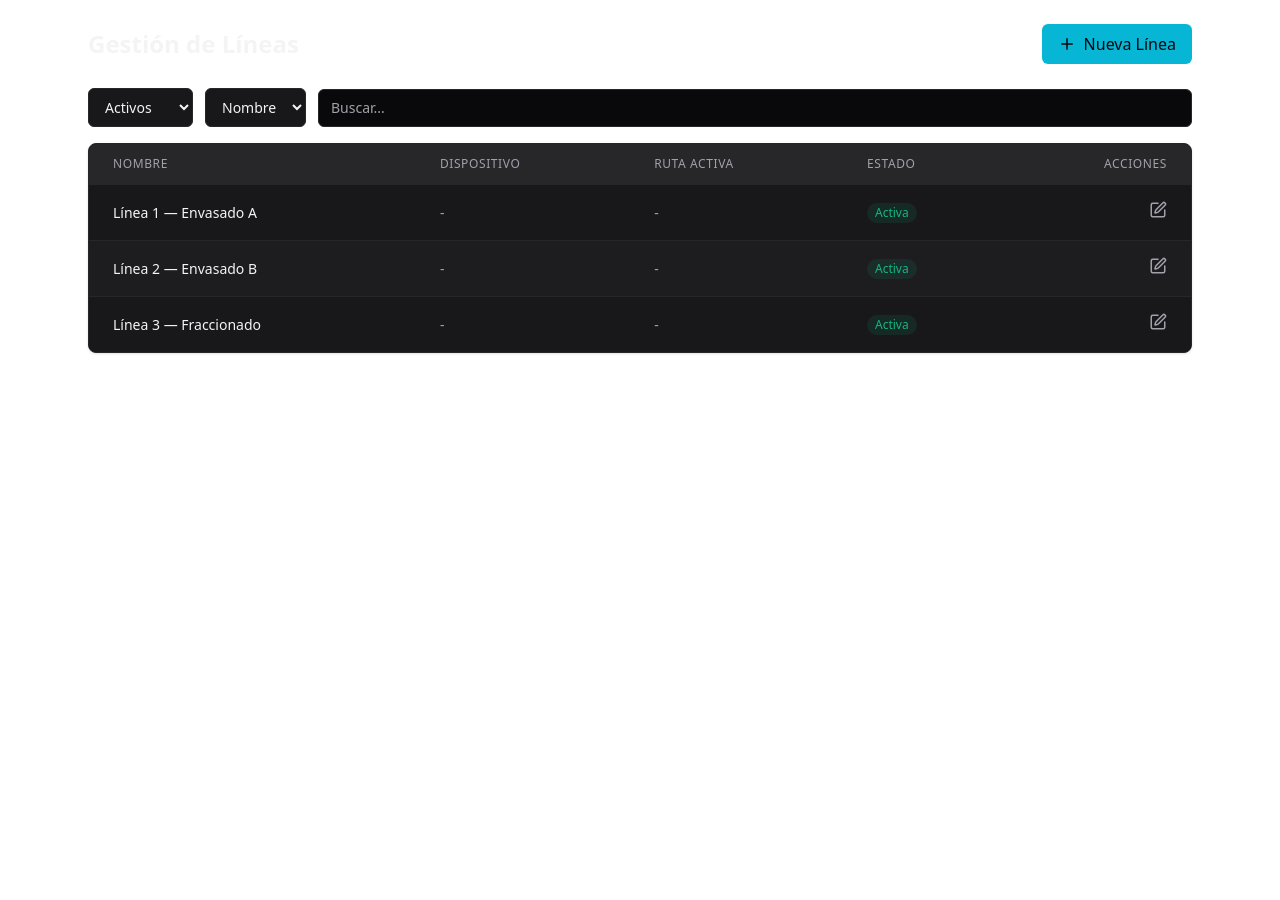
Test: LineasPage › "Activar Línea" button is visible when editing an inactive linea
Expected: the text "Línea 1 — Envasado A" is shown, [89,184,416,240]
Select "Inactivos" in the 1st dropdown at {"x": 140, "y": 108}, box [88,88,193,127]
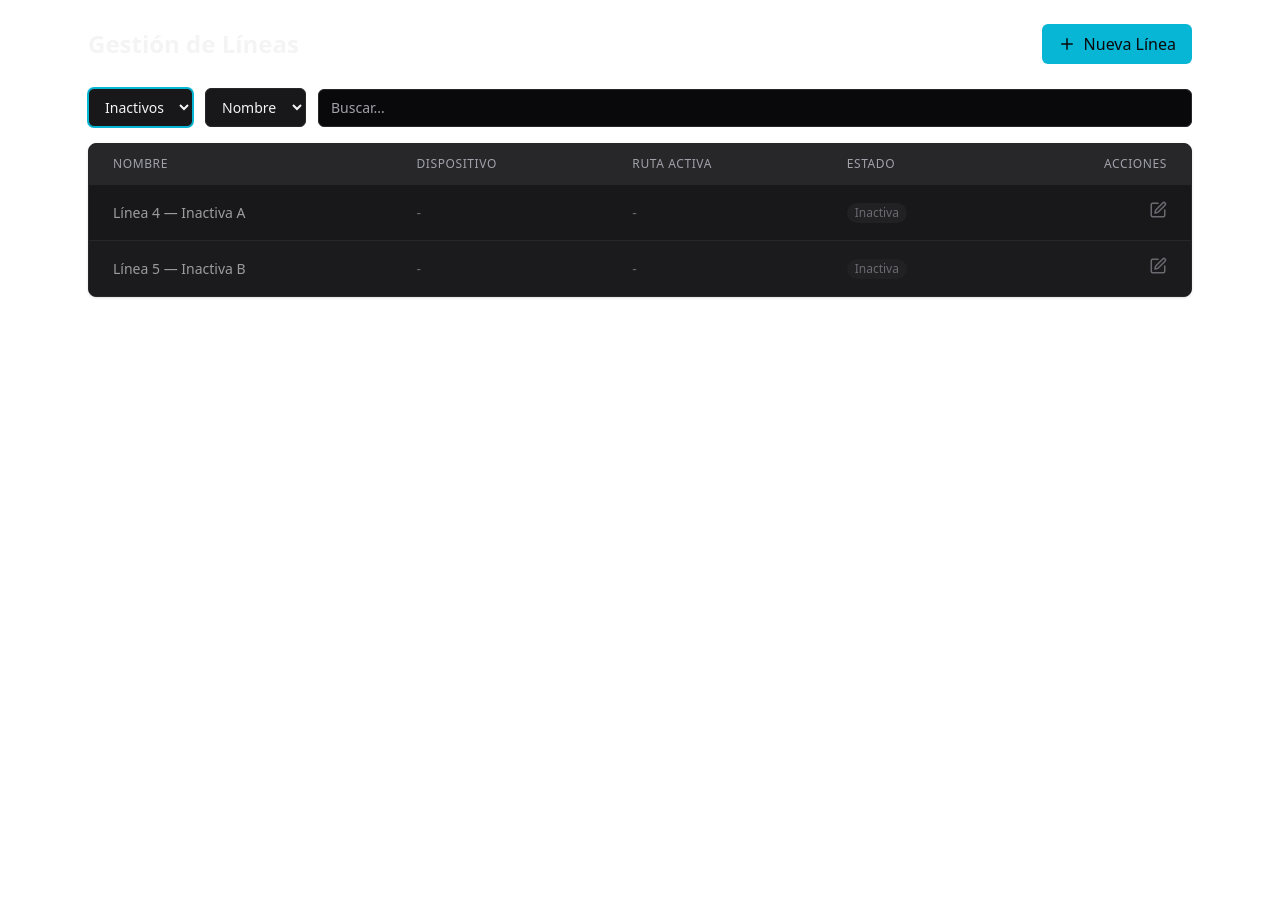
Expected: the text "Línea 4 — Inactiva A" is shown, [89,184,392,240]
Click the button titled "Editar" in the row of "Línea 4 — Inactiva A" at {"x": 1158, "y": 210}, box [1149,201,1167,219]
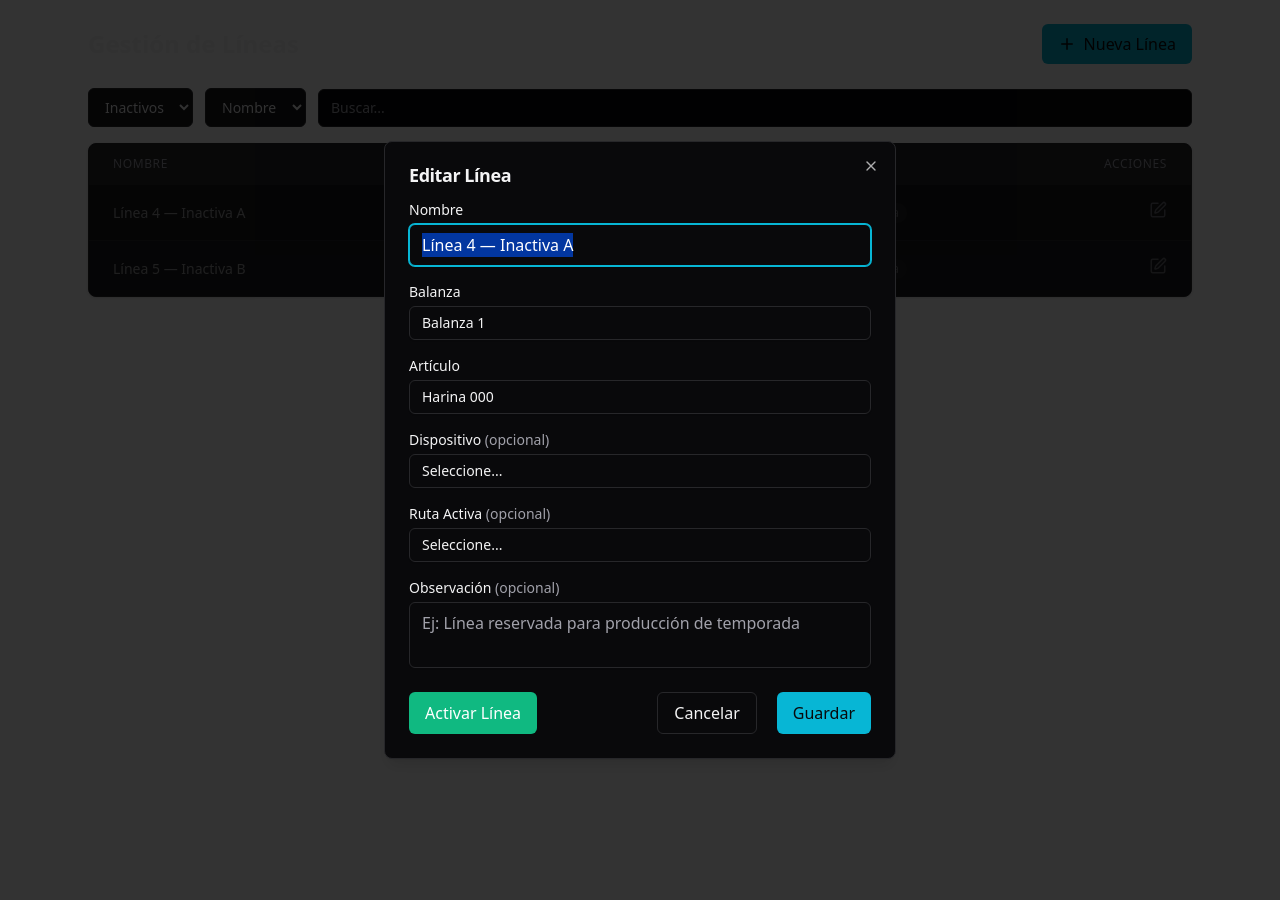
Expected: the heading "Editar Línea" is shown, [409,163,511,187]
Expected: the button "Activar Línea" is shown, [409,692,537,734]
